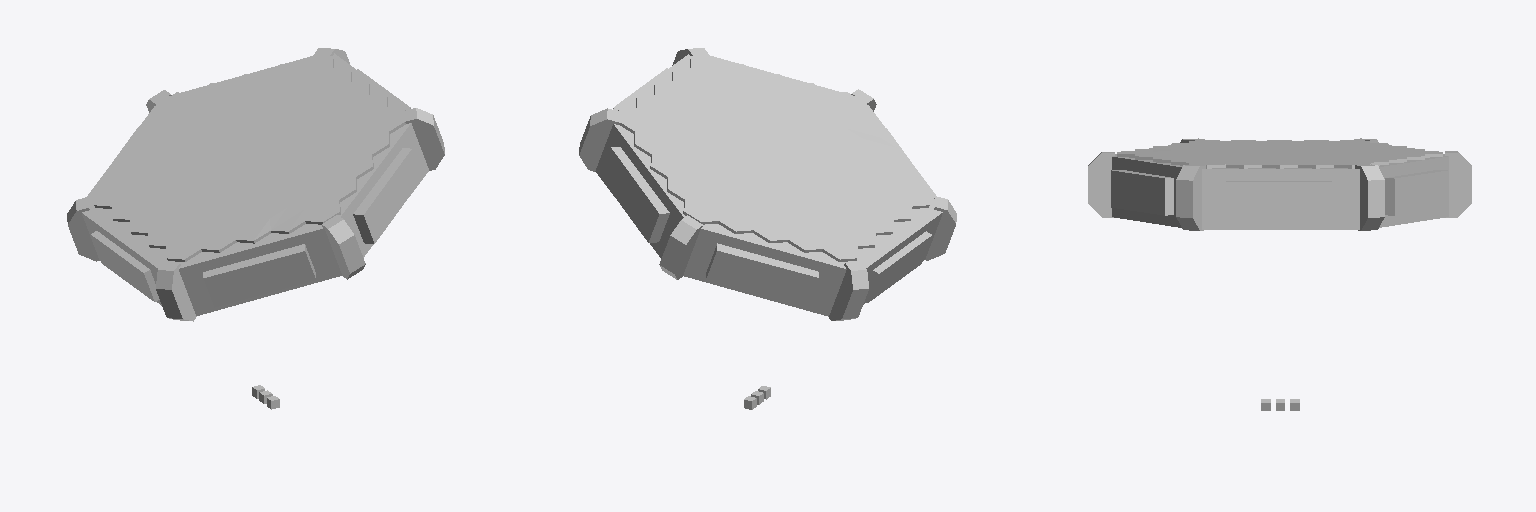
Rendered from stubesA1.obj.
3 renders of one model, left to right at view 1: azimuth 30°, elevation 25°; view 2: azimuth 150°, elevation 25°; view 3: azimuth 270°, elevation 25°, orthographic.
Visible parts, largest first — view 1: tubes,p=stand.001; view 2: tubes,p=stand.001; view 3: tubes,p=stand.001.
Boxes of the visible parts, box(x1,y1,x2,y2) form: tubes,p=stand.001: box(67, 48, 444, 321); tubes,p=stand.001: box(579, 48, 956, 320); tubes,p=stand.001: box(1088, 138, 1471, 230).
Bounding box in the file's own units: 69.76 × 68.3 × 79.96.